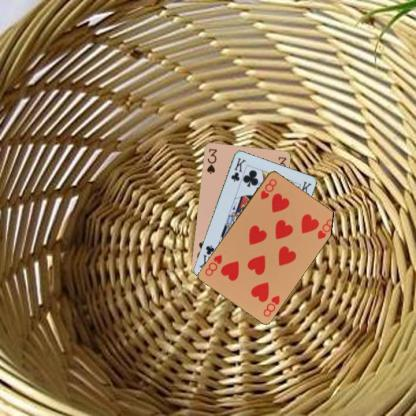3s: (204, 146, 218, 175)
8h: (260, 292, 280, 318), (258, 176, 278, 200)
Kc: (228, 155, 247, 182)
